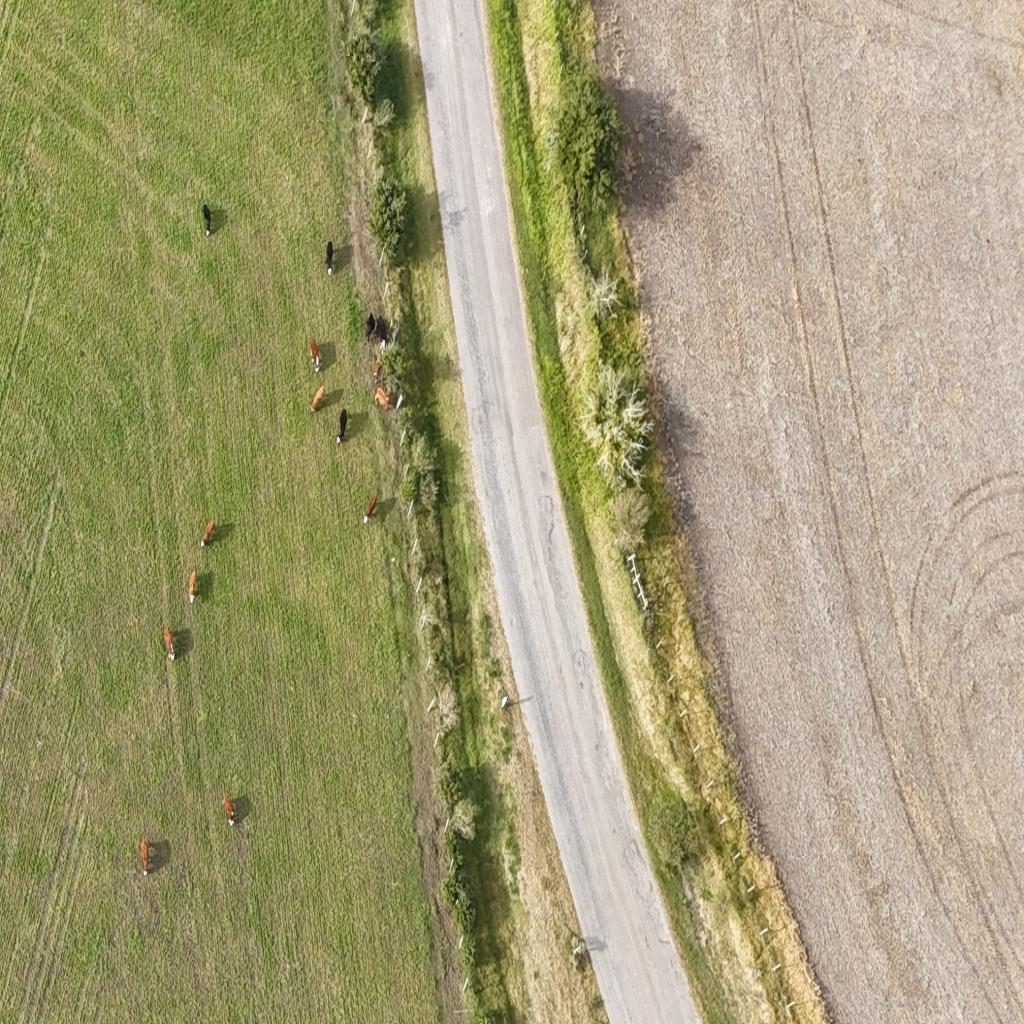cow: (366, 490, 382, 526), (201, 518, 216, 550), (375, 314, 388, 350), (222, 795, 236, 828), (310, 386, 325, 416), (163, 627, 175, 663), (376, 385, 392, 411), (188, 570, 198, 607), (337, 408, 347, 445), (365, 312, 376, 344), (310, 338, 320, 373), (140, 840, 150, 875), (326, 241, 334, 277), (202, 204, 211, 236), (373, 358, 382, 382)
